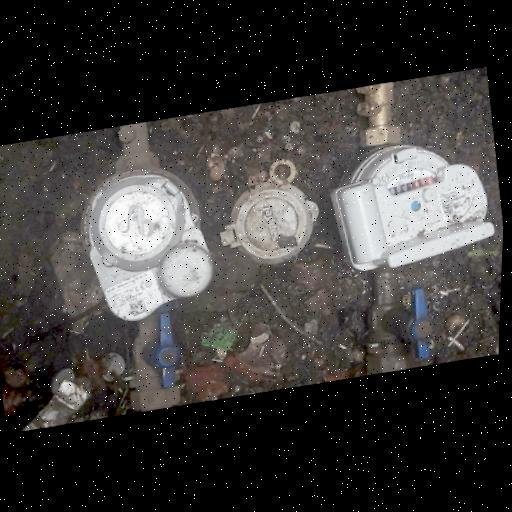0: (387, 187, 397, 196), (394, 185, 404, 194), (401, 183, 409, 192)
1: (425, 175, 434, 185), (407, 181, 415, 190)
6: (412, 179, 422, 188)
7: (419, 178, 429, 187)
border_water_meter_number: (386, 172, 438, 198)
